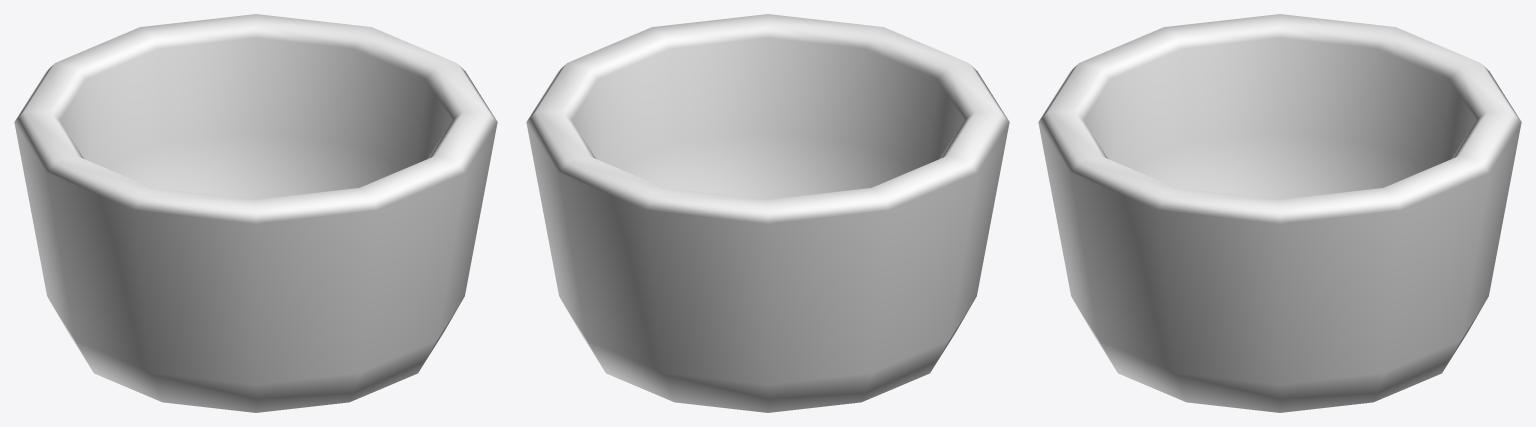
The model's file is prop_065.fbx.
3 views of the same model, side by side, from view 1: azimuth 30°, elevation 25°; view 2: azimuth 150°, elevation 25°; view 3: azimuth 270°, elevation 25° (orthographic).
Visible parts, largest first — view 1: prop_065; view 2: prop_065; view 3: prop_065.
Part boxes in pixels (x1,y1,x2,y2): prop_065: (14,14,497,412); prop_065: (526,14,1009,412); prop_065: (1038,14,1521,412).
Bounding box in the file's own units: 23.72 × 23.72 × 12.84.
